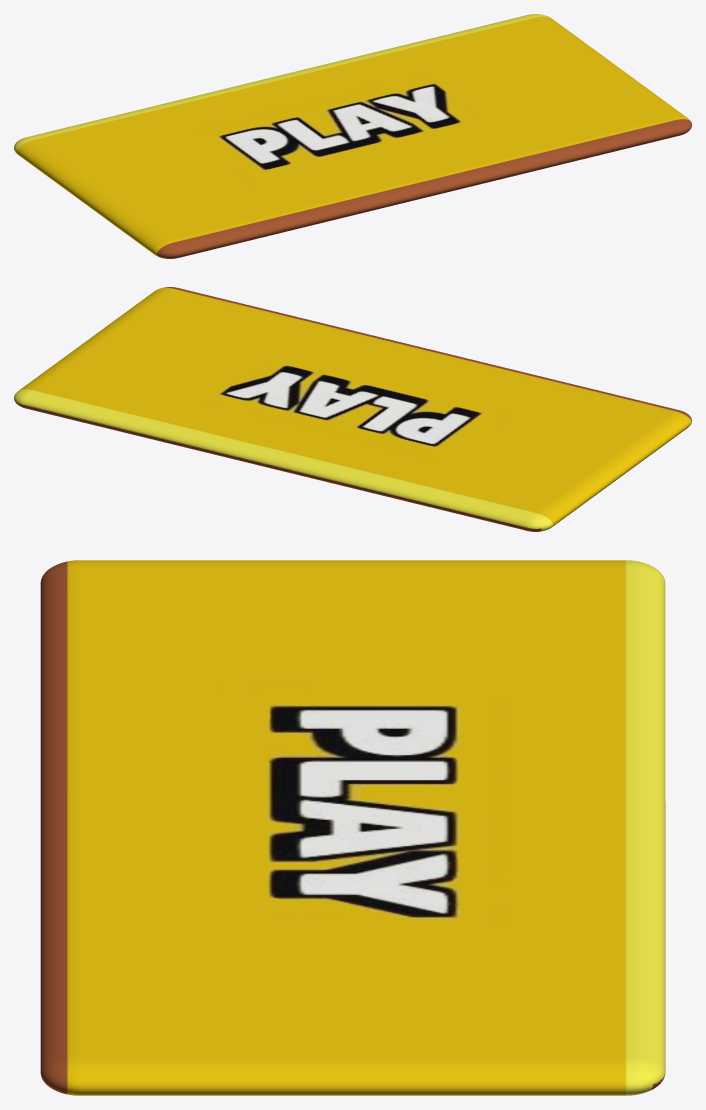
File: button_play.dae
3 views of the same model, one above another, from view 1: azimuth 30°, elevation 25°; view 2: azimuth 150°, elevation 25°; view 3: azimuth 270°, elevation 25° (orthographic). The views are drawn at different scales.
Visible parts, largest first — view 1: Plane; view 2: Plane; view 3: Plane.
Part boxes in pixels (x1,y1,x2,y2): Plane: (14,14,691,258); Plane: (14,287,691,531); Plane: (40,560,665,1095).
Size of the model in its own units: 7.9 by 3.98 by 0.2189.
Materials: 1 (1 with a texture image).
